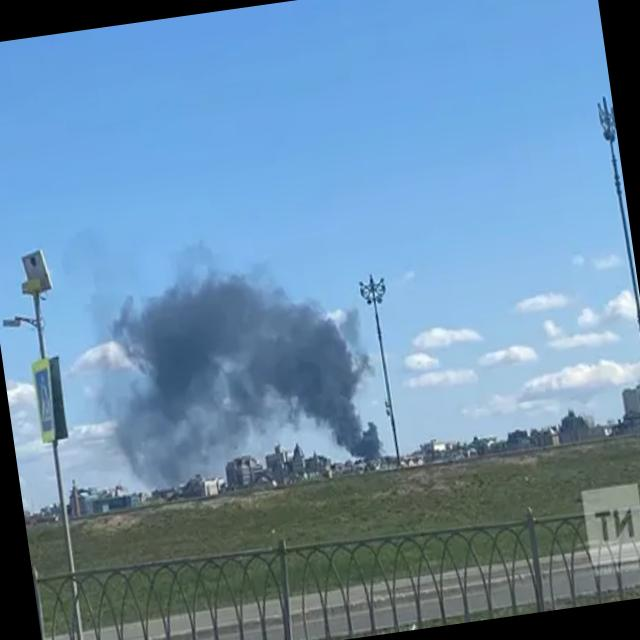Smoke: (99, 223, 389, 494)
